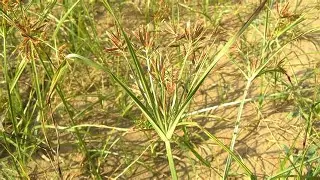weed: (0, 0, 319, 178)
